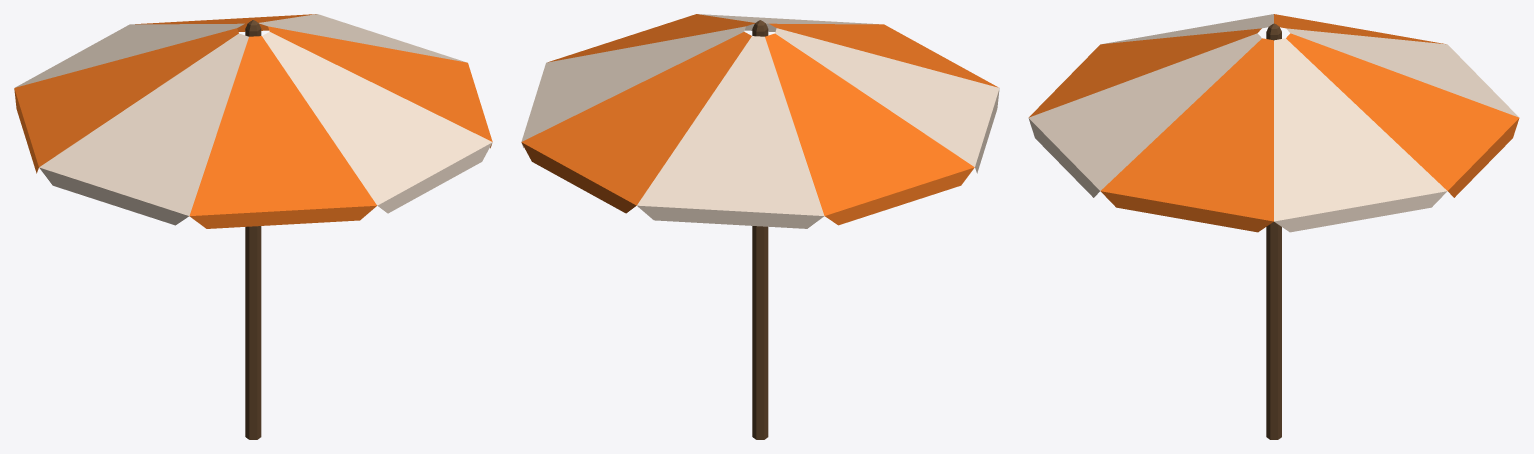
Rendered from sunscreen.glb.
3 views of the same model, side by side, from view 1: azimuth 30°, elevation 25°; view 2: azimuth 150°, elevation 25°; view 3: azimuth 270°, elevation 25° (orthographic).
Visible parts, largest first — view 1: sunscreen; view 2: sunscreen; view 3: sunscreen.
Boxes of the visible parts, box(x1,y1,x2,y2) form: sunscreen: box(14, 14, 492, 439); sunscreen: box(521, 14, 999, 439); sunscreen: box(1028, 14, 1519, 439).
Bounding box in the file's own units: 2.37 × 2.2 × 2.37.
1 material, 1 textured.
